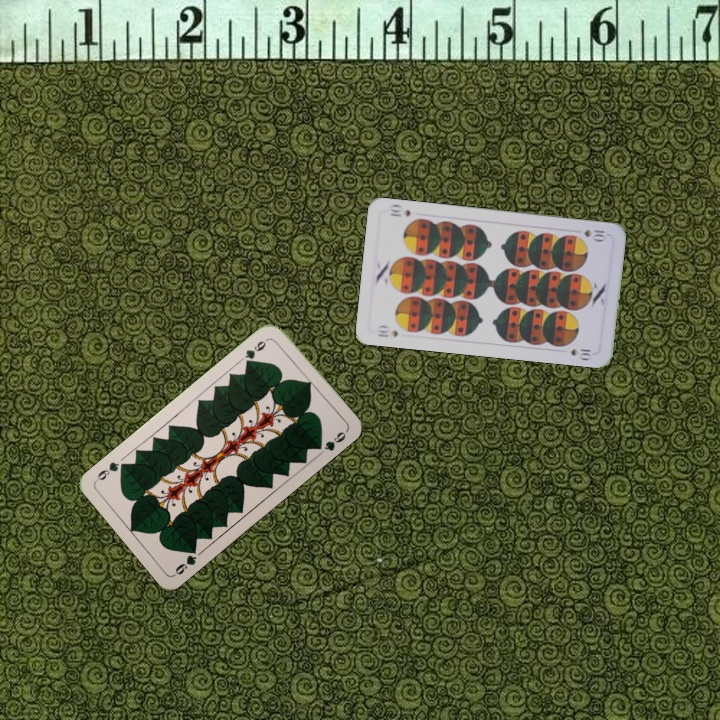G9: (170, 543, 199, 578), (240, 337, 269, 367)
S10: (373, 322, 401, 340), (580, 226, 607, 243)
